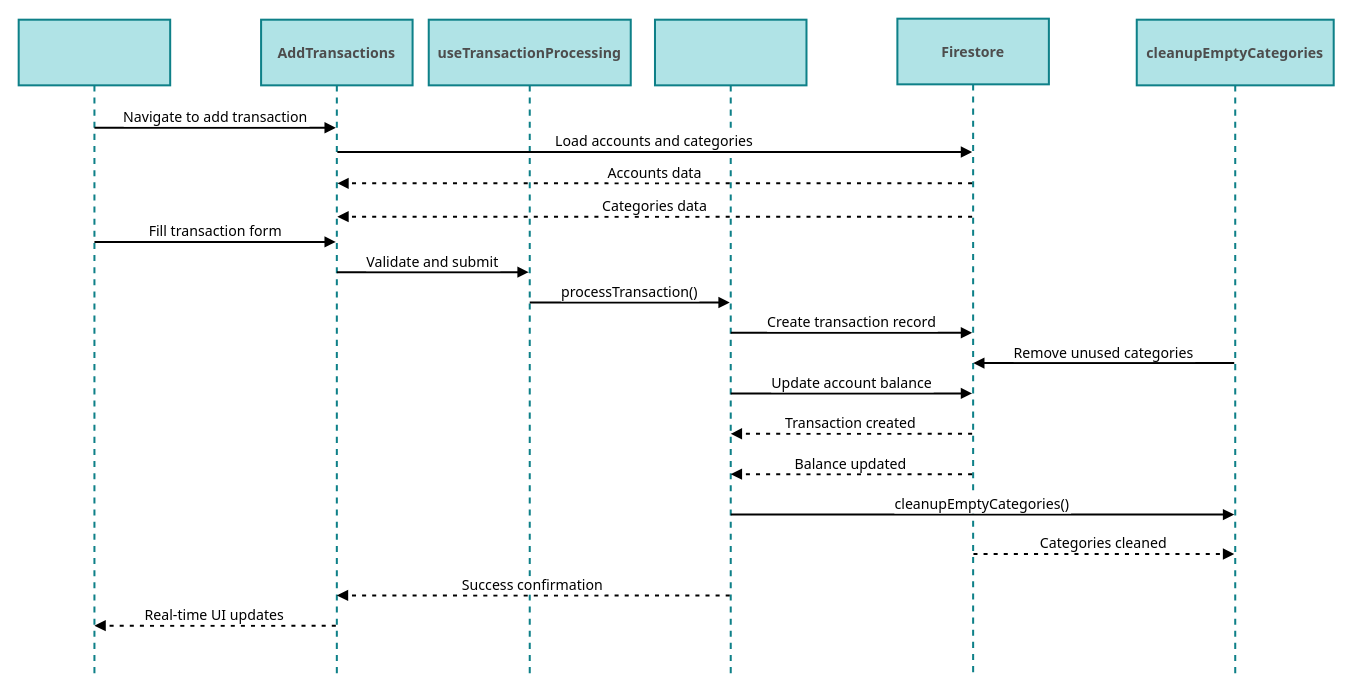
This 1351x694 diagram has some shape labels left out. Each missing label, with the box of its shape:
transactionService: (653, 18, 807, 677)
User: (17, 18, 171, 677)
